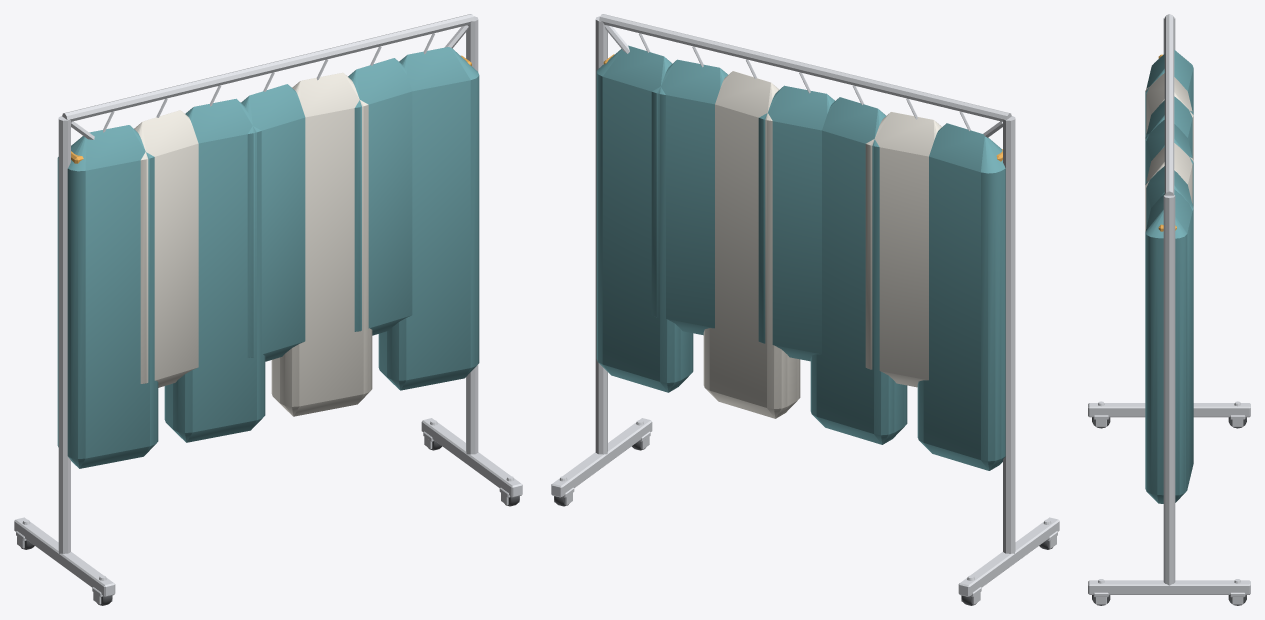
The model's file is 35522_Wardrobe_Rail_with_Garment_Covers__TV_Studio_and_Broadcast_Gallery_.glb.
The picture shows the model from 3 angles, left to right: view 1: azimuth 30°, elevation 25°; view 2: azimuth 150°, elevation 25°; view 3: azimuth 270°, elevation 25°; orthographic projection. The views are drawn at different scales.
Visible parts, largest first — view 1: wardrobe-rail-with-covers; view 2: wardrobe-rail-with-covers; view 3: wardrobe-rail-with-covers.
Part boxes in pixels (x1,y1,x2,y2): wardrobe-rail-with-covers: (14, 14, 522, 605); wardrobe-rail-with-covers: (551, 14, 1059, 605); wardrobe-rail-with-covers: (1088, 14, 1250, 605).
Bounding box in the file's own units: 1.65 × 1.74 × 0.6199.
